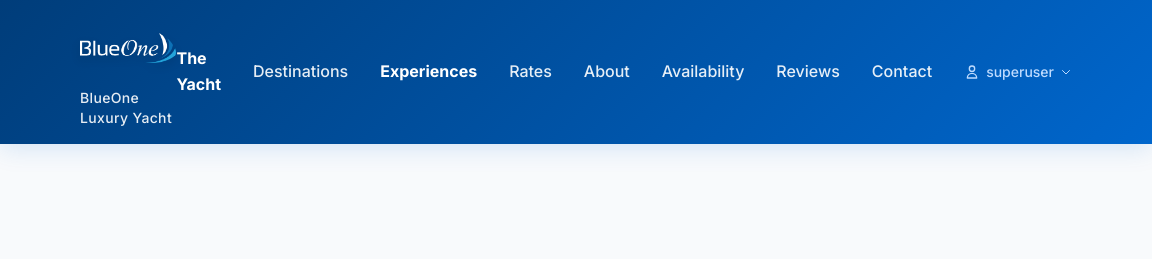
Test case: Navigation — Authenticated Admin › shows "Super Admin" label in dropdown for super admin
The width and height of the screenshot is (1152, 259).
Click the button "superuser".
click(1018, 72)  # box [964,62,1072,82]
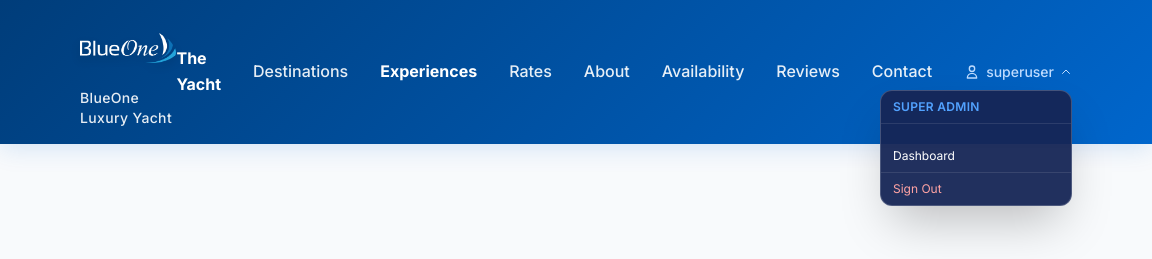
Now the text "Super Admin" is shown, box [881,91,1071,124]
